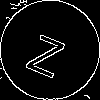Z: (25, 25, 70, 79)
